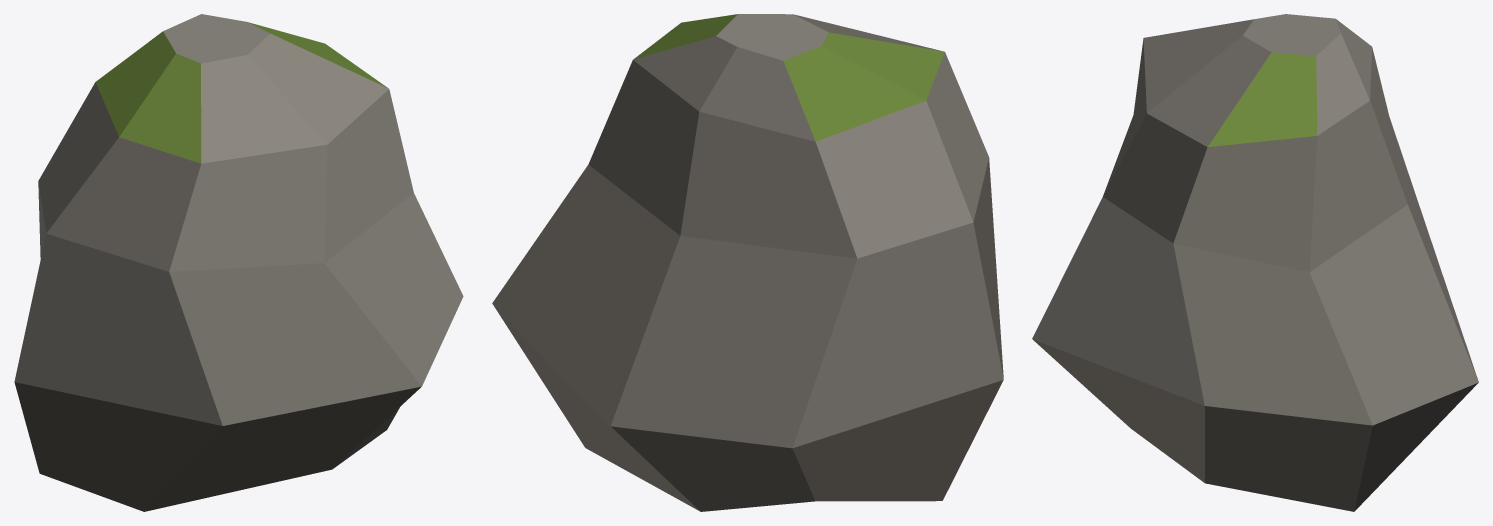
The model's file is rock_c.glb.
The picture shows the model from 3 angles, left to right: view 1: azimuth 30°, elevation 25°; view 2: azimuth 150°, elevation 25°; view 3: azimuth 270°, elevation 25°; orthographic projection. The views are drawn at different scales.
Parts seen in each view (by area): view 1: rock_c; view 2: rock_c; view 3: rock_c.
Part boxes in pixels (box(x1,y1,x2,y2)): rock_c: box(14, 14, 463, 511); rock_c: box(492, 14, 1003, 511); rock_c: box(1032, 14, 1478, 511).
Size of the model in its own units: 0.9964 by 0.9073 by 0.8808.
